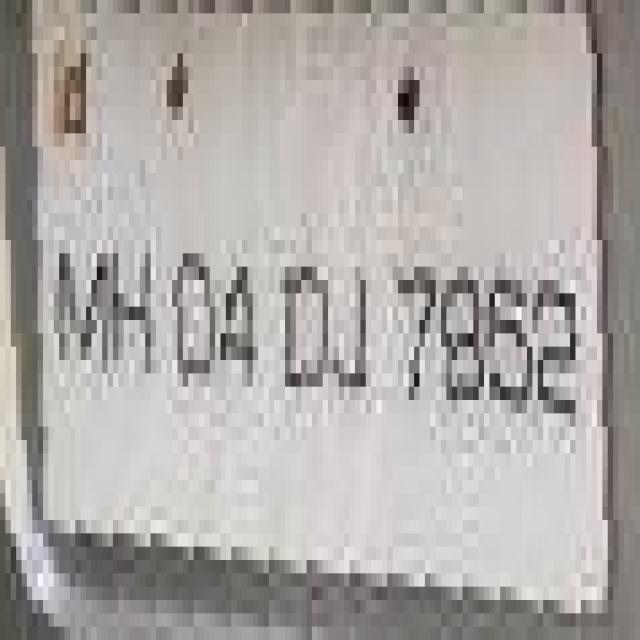license_plate: (16, 40, 640, 587)
